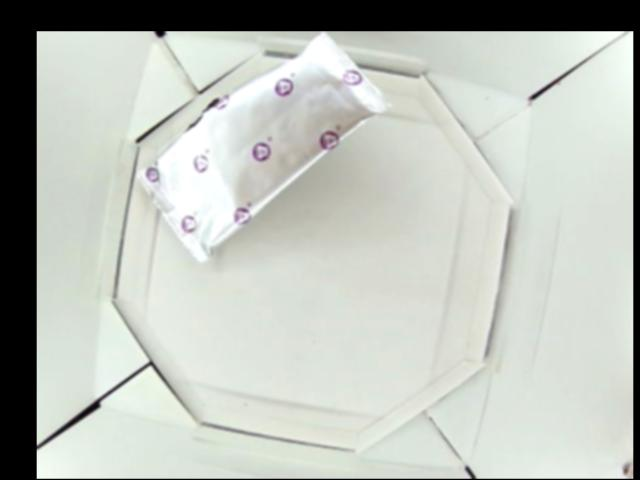Medicine: (135, 32, 392, 259)
